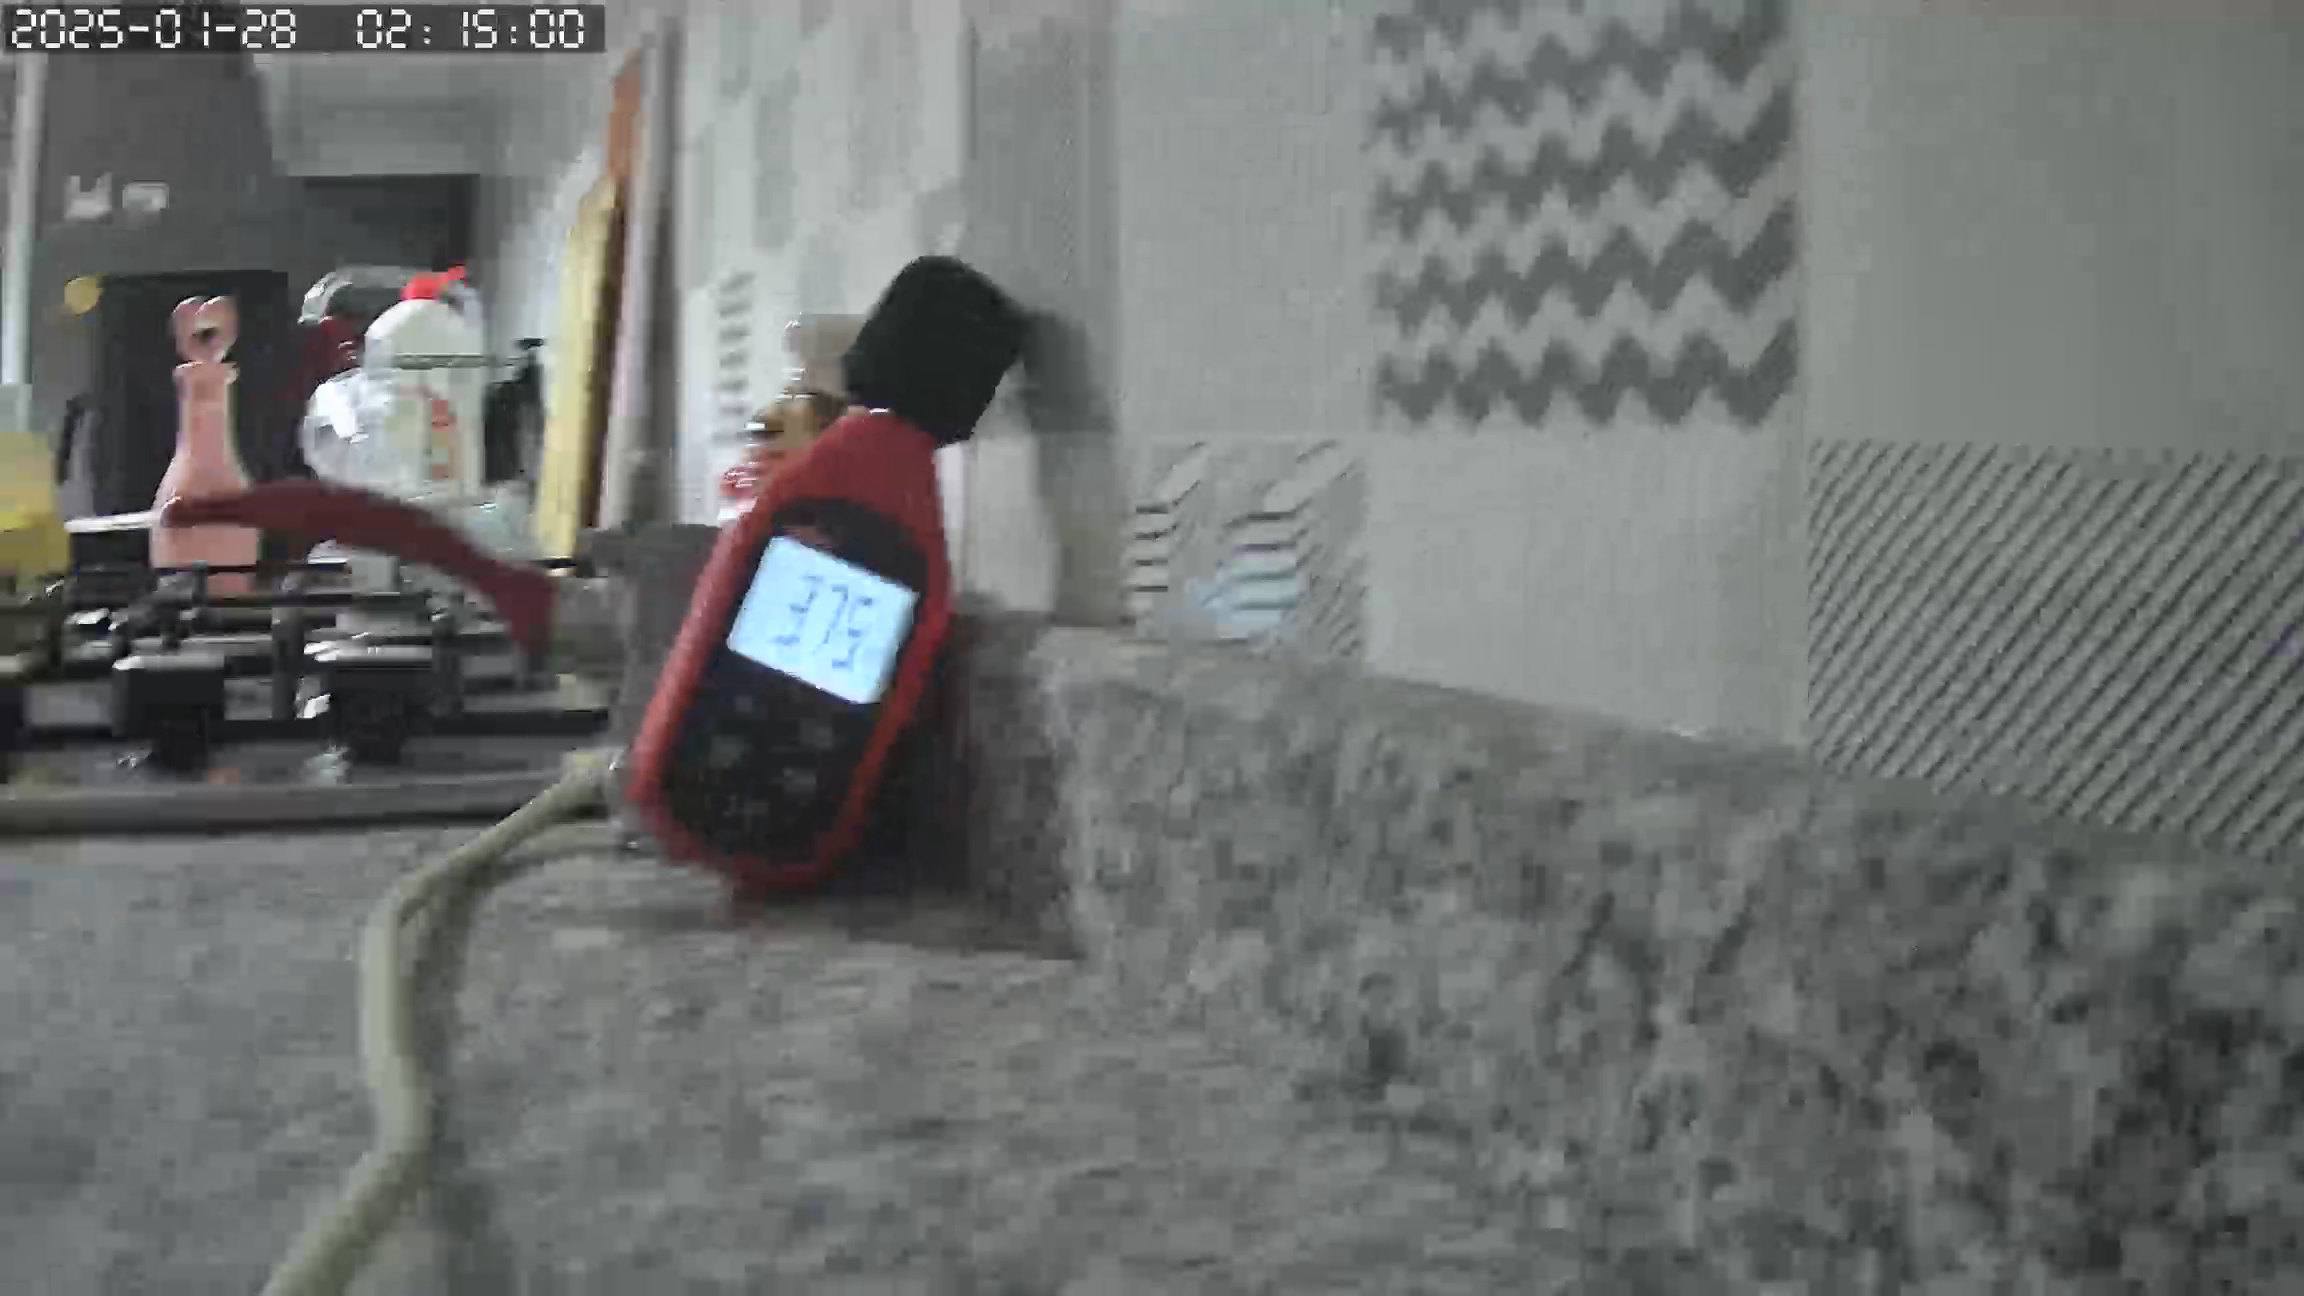screen: (729, 533, 916, 709)
